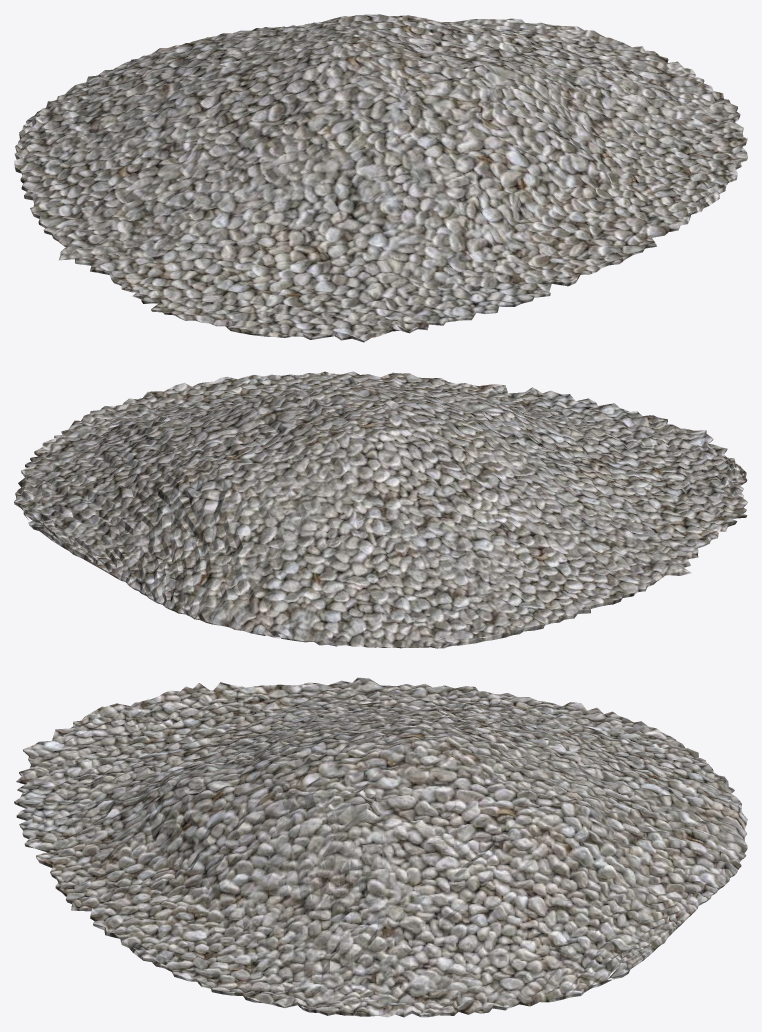
The model's file is sweethome3d-scopia-gravel-heap.glb.
The picture shows the model from 3 angles, top to bottom: view 1: azimuth 30°, elevation 25°; view 2: azimuth 150°, elevation 25°; view 3: azimuth 270°, elevation 25°; orthographic projection. The views are drawn at different scales.
Parts seen in each view (by area): view 1: Plane; view 2: Plane; view 3: Plane.
Part boxes in pixels (x1,y1,x2,y2): Plane: (14,14,747,342); Plane: (14,371,747,648); Plane: (14,677,747,1017).
Size of the model in its own units: 97.99 by 14.8 by 89.4.
1 material, 1 textured.
